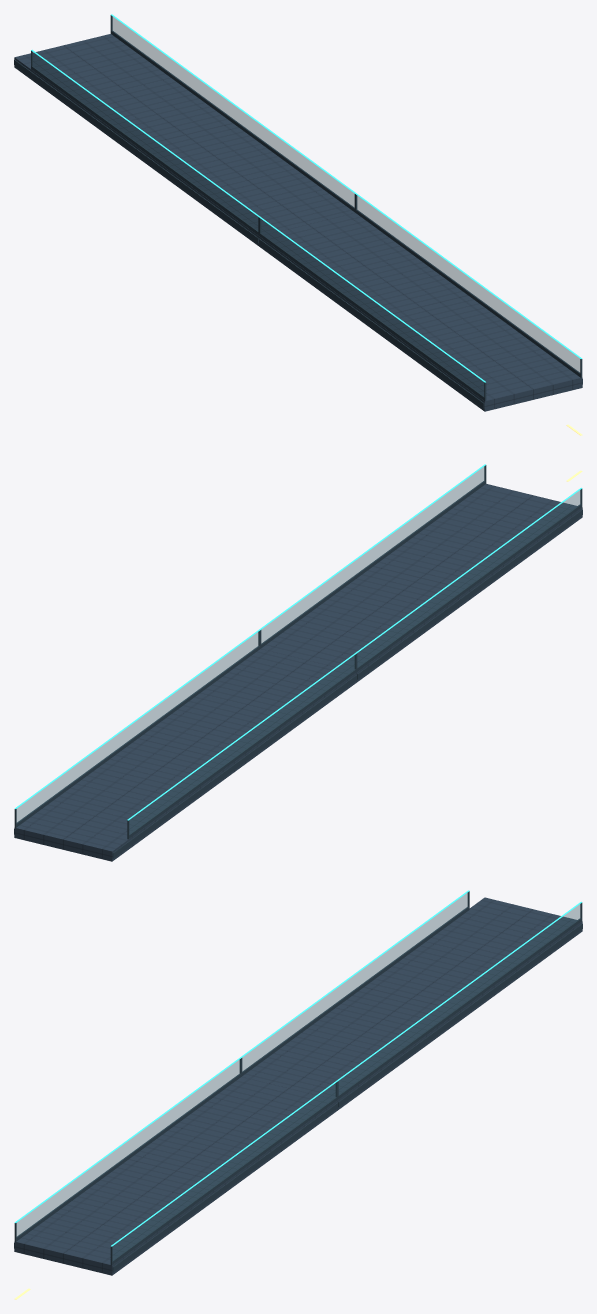
File: terrace-portal-5.glb
3 renders of one model, top to bottom at view 1: azimuth 30°, elevation 25°; view 2: azimuth 150°, elevation 25°; view 3: azimuth 330°, elevation 25°, orthographic.
Parts seen in each view (by area): view 1: terrace-portal-5; view 2: terrace-portal-5; view 3: terrace-portal-5.
Boxes of the visible parts, bbox=[...] form: terrace-portal-5: bbox=[14, 14, 582, 435]; terrace-portal-5: bbox=[14, 464, 582, 861]; terrace-portal-5: bbox=[14, 890, 582, 1299].
Size of the model in its own units: 6.1 by 1.76 by 55.08.
Materials: 5 (1 with a texture image).
